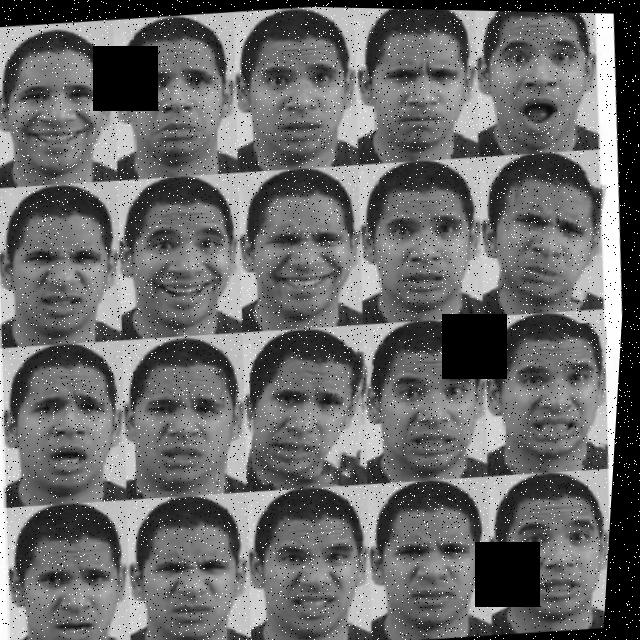sad: (247, 342, 383, 488), (500, 317, 620, 469), (494, 165, 613, 303), (132, 362, 238, 494)
